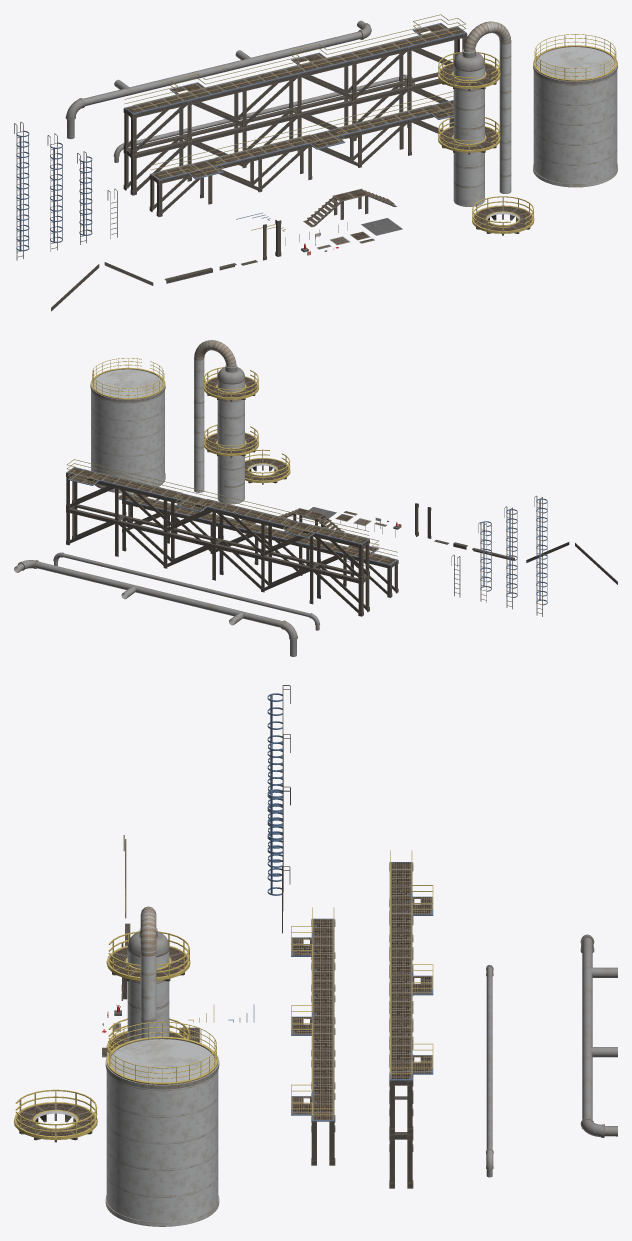
Rendered from Oil Package_U.fbx.
3 views of the same model, one above another, from view 1: azimuth 30°, elevation 25°; view 2: azimuth 150°, elevation 25°; view 3: azimuth 270°, elevation 25° (orthographic). The views are drawn at different scales.
Visible parts, largest first — view 1: Building2, BigBridge1.001, Building1, BigBridge1, BigBridgeFloor2, Pipe2, BigBridgeFloor1, BigBridgeFence2, BigBridgeFence1, Building1Floor, Pipe1, Stair4 (+4 smaller); view 2: BigBridge1.001, Building2, Building1, BigBridgeFloor2, Pipe2, BigBridge1, BigBridgeFence2, BigBridgeFloor1, Pipe1, Building1Floor, Stair4, BigBridgeFence1 (+3 smaller); view 3: Building2, Building1, BigBridgeFloor2, BigBridgeFloor1, Pipe2, Building1Floor, BigBridge1.001, BigBridgeFence2, Pipe1, BigBridgeFence1, Stair2, Stair3 (+2 smaller).
Boxes of the visible parts, <box> form: Building2: <box>533,34,617,187</box>; BigBridge1.001: <box>123,33,467,195</box>; Building1: <box>438,21,511,206</box>; BigBridge1: <box>149,111,453,216</box>; BigBridgeFloor2: <box>126,23,464,113</box>; Pipe2: <box>65,20,371,139</box>; BigBridgeFloor1: <box>152,100,453,179</box>; BigBridgeFence2: <box>124,14,466,114</box>; BigBridgeFence1: <box>150,91,453,180</box>; Building1Floor: <box>472,196,534,235</box>; Pipe1: <box>113,74,414,162</box>; Stair4: <box>14,122,29,260</box>; BigBridge1.001: <box>66,473,369,616</box>; Building2: <box>90,358,165,493</box>; Building1: <box>194,340,258,504</box>; BigBridgeFloor2: <box>68,467,367,543</box>; Pipe2: <box>14,560,297,656</box>; BigBridge1: <box>122,500,398,597</box>; BigBridgeFence2: <box>66,459,369,544</box>; BigBridgeFloor1: <box>118,493,396,564</box>; Pipe1: <box>53,552,319,630</box>; Building1Floor: <box>245,449,290,484</box>; Stair4: <box>534,495,547,616</box>; BigBridgeFence1: <box>118,491,397,565</box>; Building2: <box>105,1021,219,1226</box>; Building1: <box>106,906,190,1052</box>; BigBridgeFloor2: <box>390,862,432,1078</box>; BigBridgeFloor1: <box>292,919,333,1119</box>; Pipe2: <box>580,934,617,1137</box>; Building1Floor: <box>14,1089,97,1142</box>; BigBridge1.001: <box>389,863,413,1188</box>; BigBridgeFence2: <box>389,850,433,1080</box>; Pipe1: <box>486,965,493,1177</box>; BigBridgeFence1: <box>291,907,334,1121</box>; Stair2: <box>267,786,290,910</box>; Stair3: <box>268,734,290,891</box>.
Bounding box in the file's own units: 8537 × 2475 × 5803.
